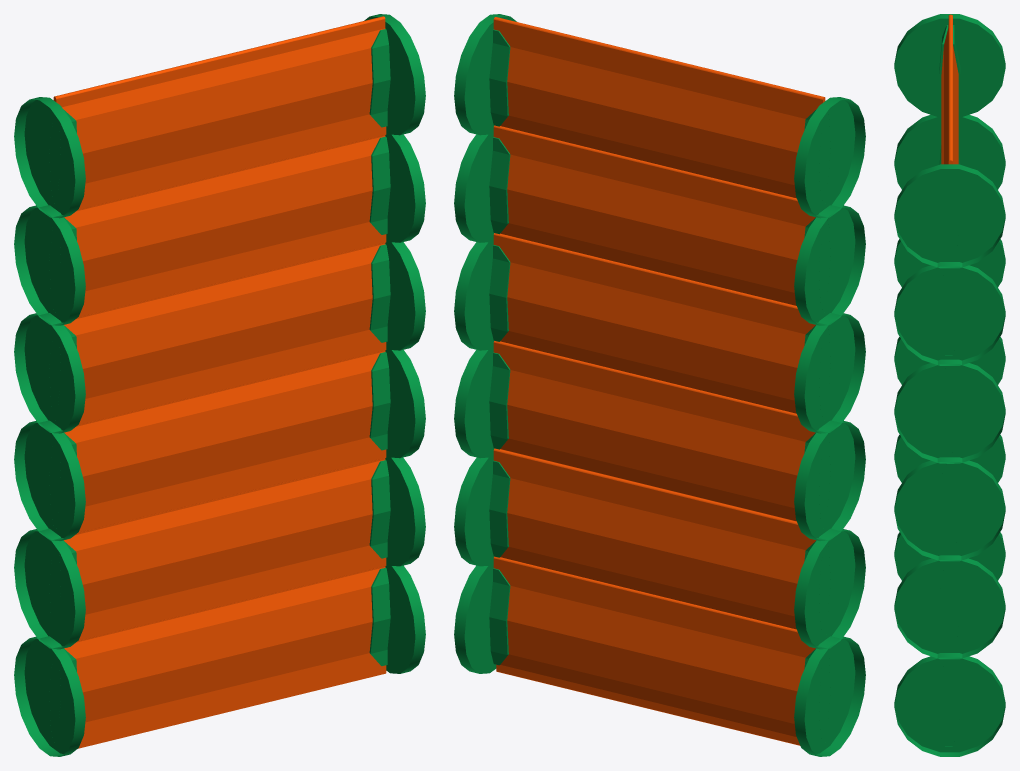
The model's file is rekuperatorZaslon1.FBX.
The picture shows the model from 3 angles, left to right: view 1: azimuth 30°, elevation 25°; view 2: azimuth 150°, elevation 25°; view 3: azimuth 270°, elevation 25°; orthographic projection. The views are drawn at different scales.
Visible parts, largest first — view 1: Object001, Object006, Object005, Object004, Object003, Object002; view 2: Object005, Object001, Object006, Object004, Object003, Object002; view 3: Object001, Object002, Object005, Object003, Object006, Object004.
Boxes of the visible parts, left/top/right/bottom form: Object001: left=14, top=14, right=425, bottom=218; Object006: left=14, top=455, right=425, bottom=649; Object005: left=14, top=563, right=425, bottom=756; Object004: left=14, top=239, right=425, bottom=433; Object003: left=14, top=347, right=425, bottom=540; Object002: left=14, top=132, right=425, bottom=325; Object005: left=454, top=556, right=865, bottom=756; Object001: left=454, top=14, right=865, bottom=218; Object006: left=454, top=448, right=865, bottom=649; Object004: left=454, top=233, right=865, bottom=433; Object003: left=454, top=341, right=865, bottom=540; Object002: left=454, top=125, right=865, bottom=325; Object001: left=894, top=14, right=1005, bottom=268; Object002: left=894, top=114, right=1005, bottom=365; Object005: left=894, top=532, right=1005, bottom=756; Object003: left=894, top=337, right=1005, bottom=561; Object006: left=894, top=434, right=1005, bottom=659; Object004: left=894, top=239, right=1005, bottom=463.
Bounding box in the file's own units: 301 × 539 × 91.32.
